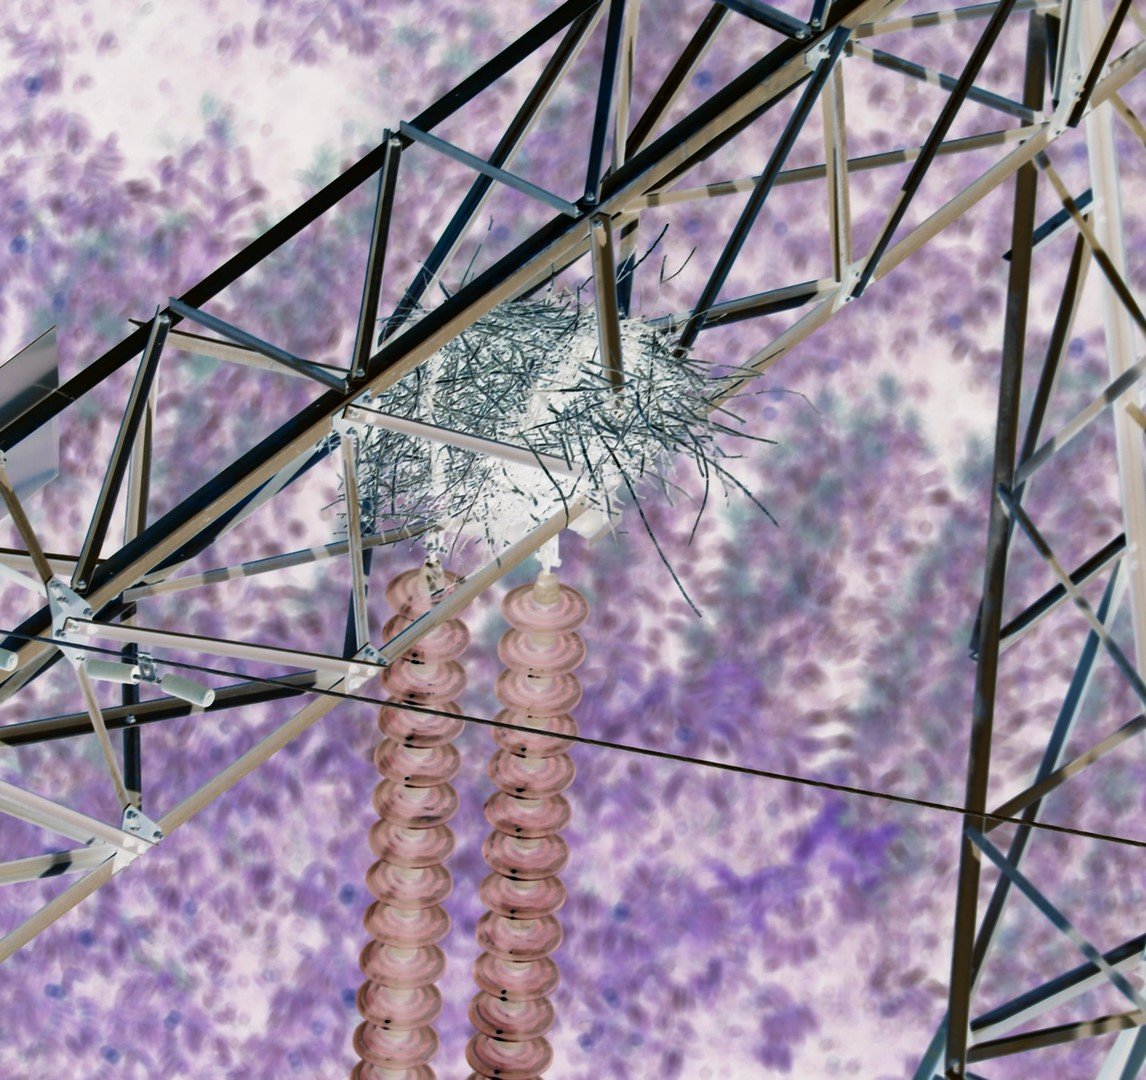niaowo: (353, 271, 743, 571)
